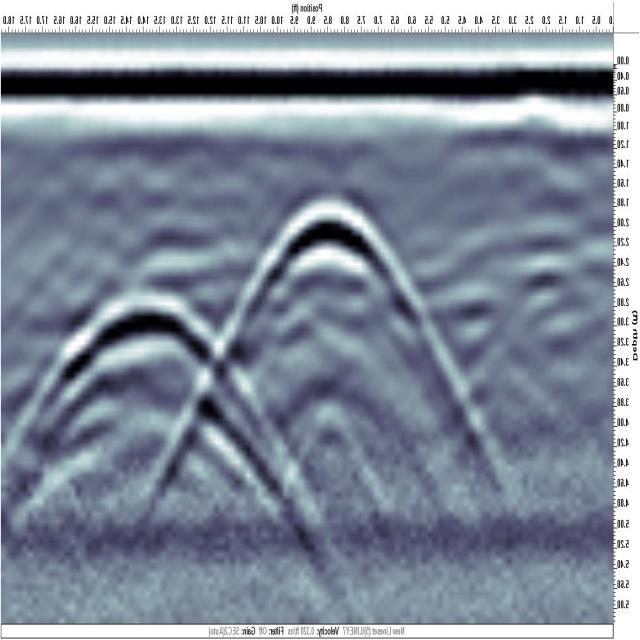hyperbola: (36, 278, 249, 441), (237, 168, 422, 313)
